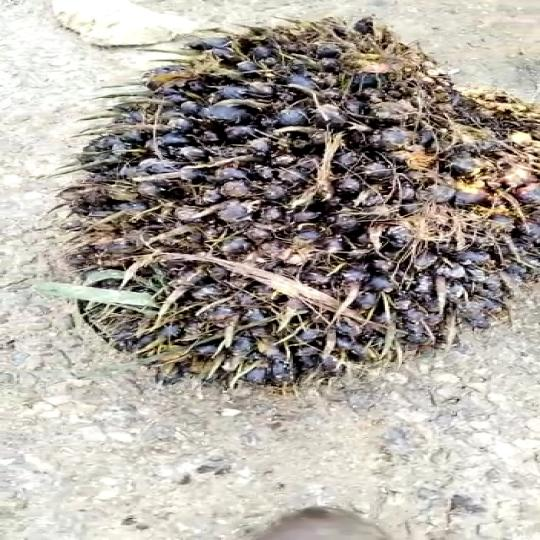mentah: (66, 15, 540, 381)
